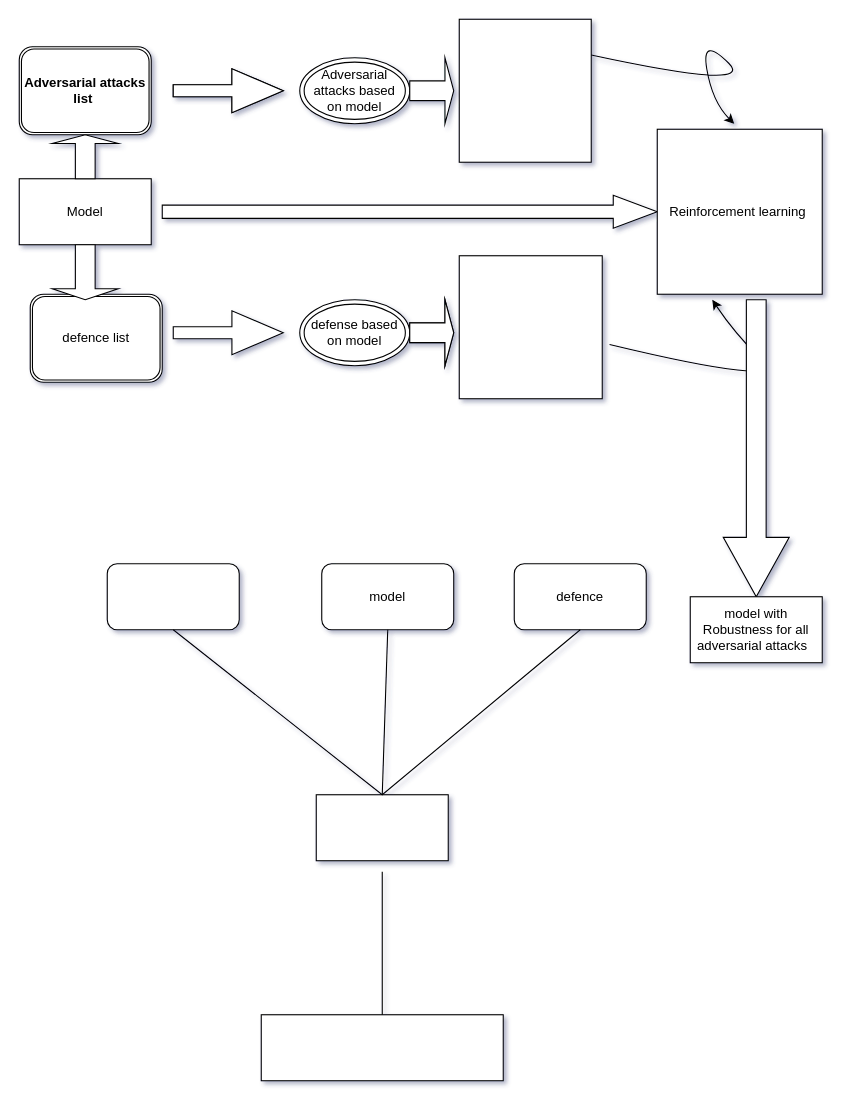
This 848x1107 diagram has some shape labels left out. The centre of each missing label's shape, as x and y in pixels:
"A1 A2 A3 . . . An" goes at point 524,90.
"attack" goes at point 172,596.
"D1 D2 D3 . . . Dn" goes at point 530,327.
"S1,S2,S3.......sn" goes at point 381,1047.
"score" goes at point 381,827.
